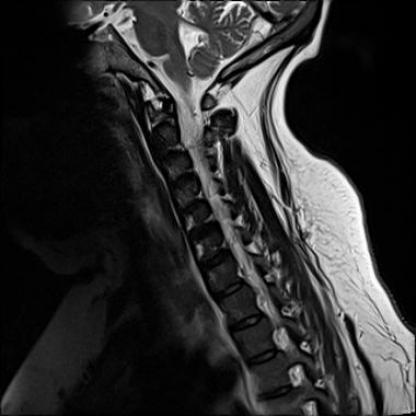Disc Herniationrotation: (183, 222, 221, 240)
Disc Protrusionrotation: (167, 172, 200, 191)
